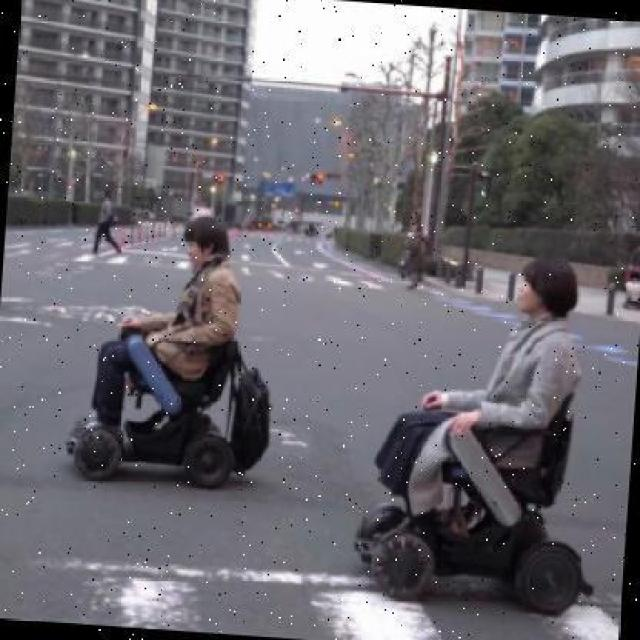Person: (357, 245, 617, 618), (67, 205, 256, 486), (87, 188, 130, 262), (398, 221, 432, 293)
